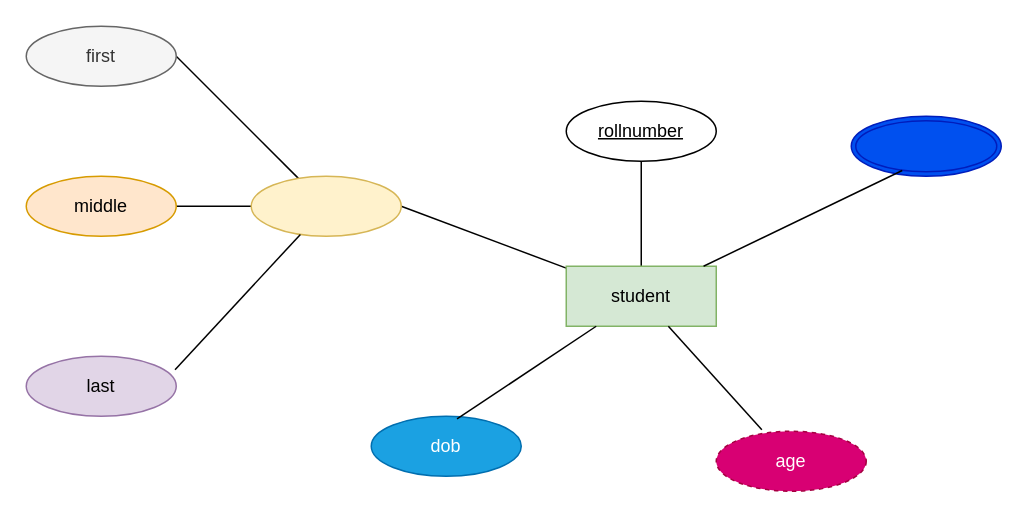
This 1028x518 diagram has some shape labels left out. Each missing label, with the centre of its shape:
"email" goes at (925,145).
"name" goes at (325,205).
